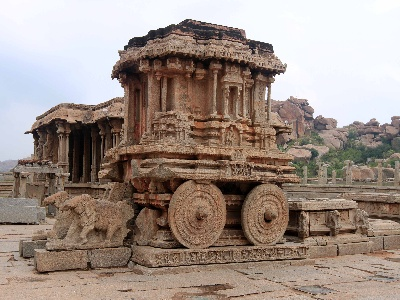mandapa: (10, 93, 129, 187)
